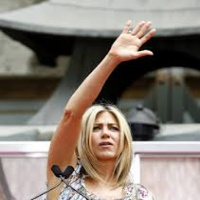ring: (130, 15, 144, 40)
